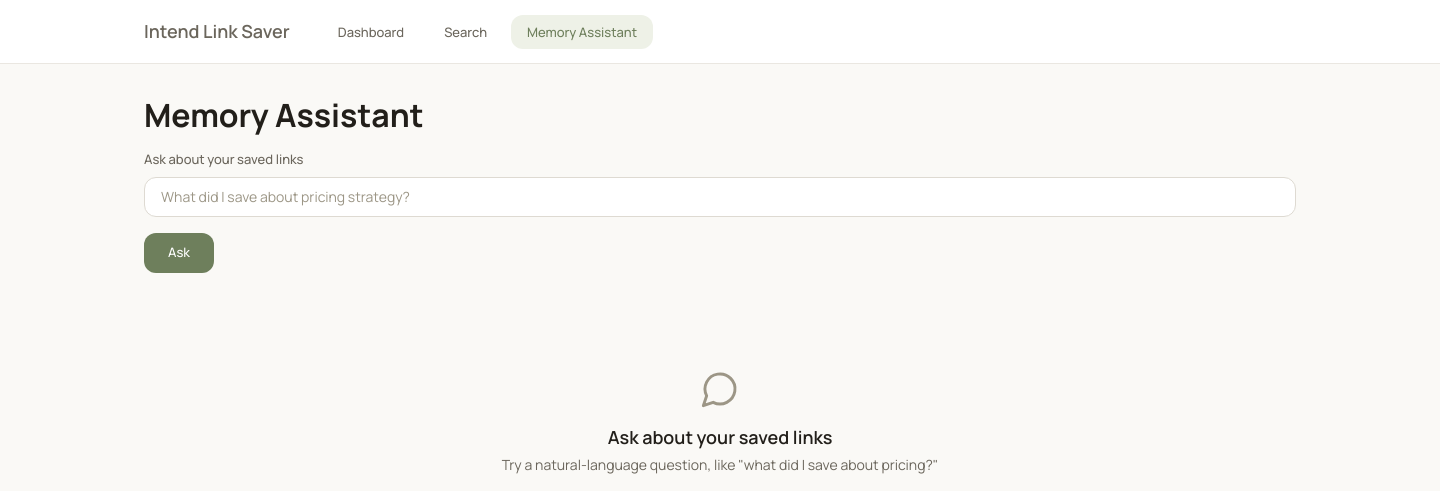
Test: MemoryAssistantPage › displays the answer with no cited links when nothing matched
This screenshot has width=1440, height=491.
In the field labelled "Ask about your saved links": point(720, 197) [144,177,1296,217], type "anything?"
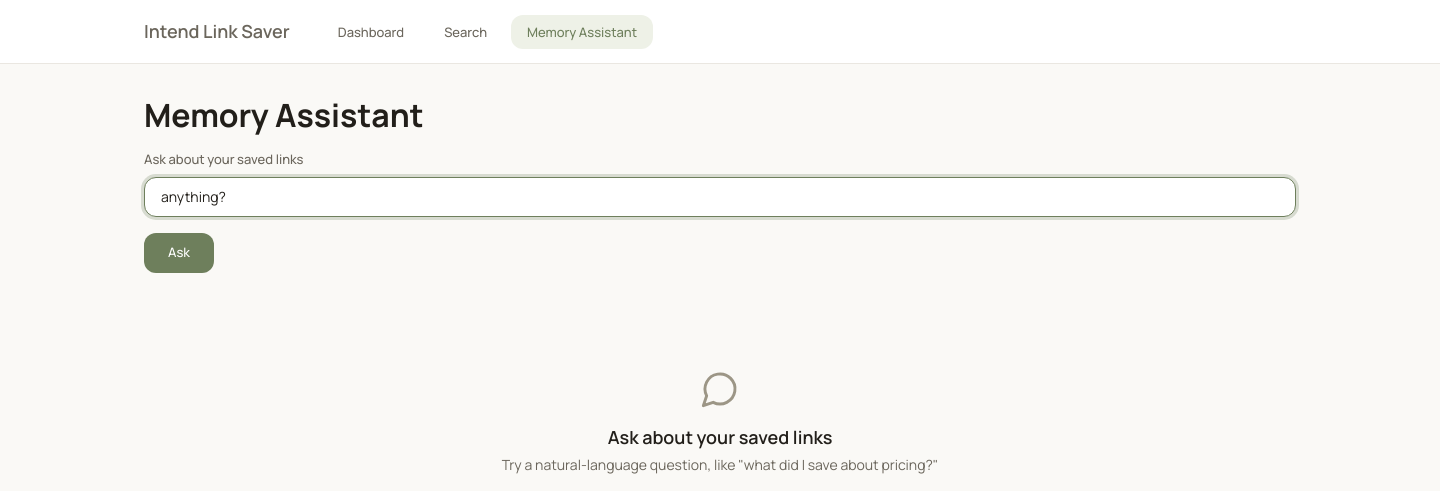
Click the button "Ask": point(179, 253) [144,233,214,273]
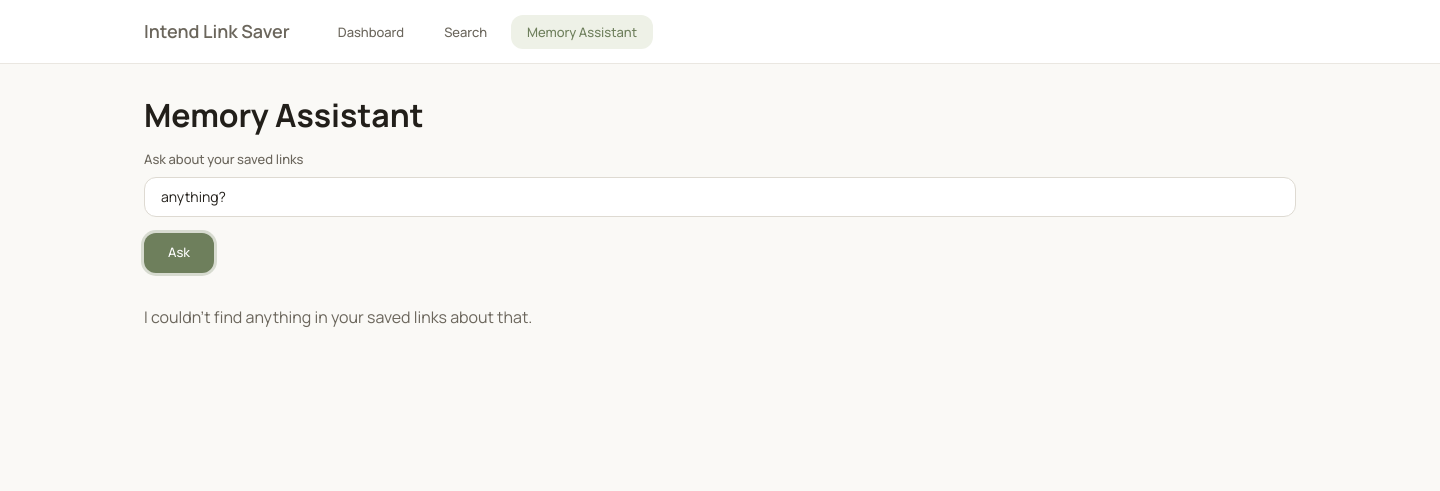
Now the text "I couldn't find anything in your saved links about that." is shown, box [144,306,532,328]
